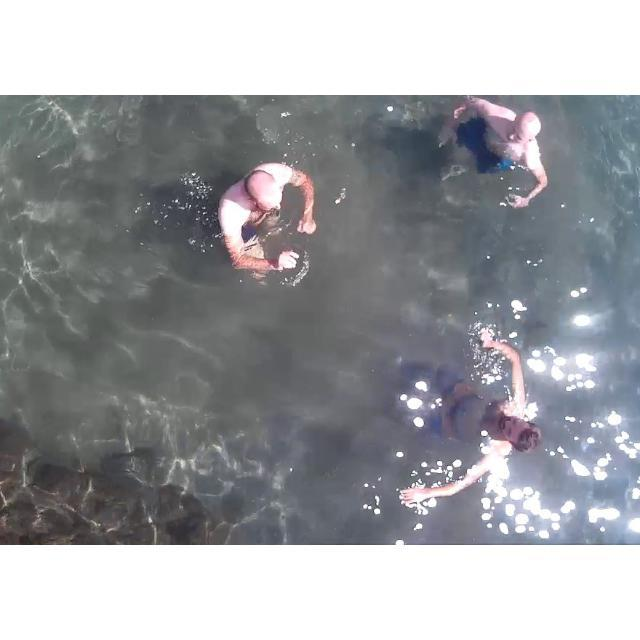human: (419, 320, 545, 486), (200, 139, 335, 272), (430, 95, 574, 198)
